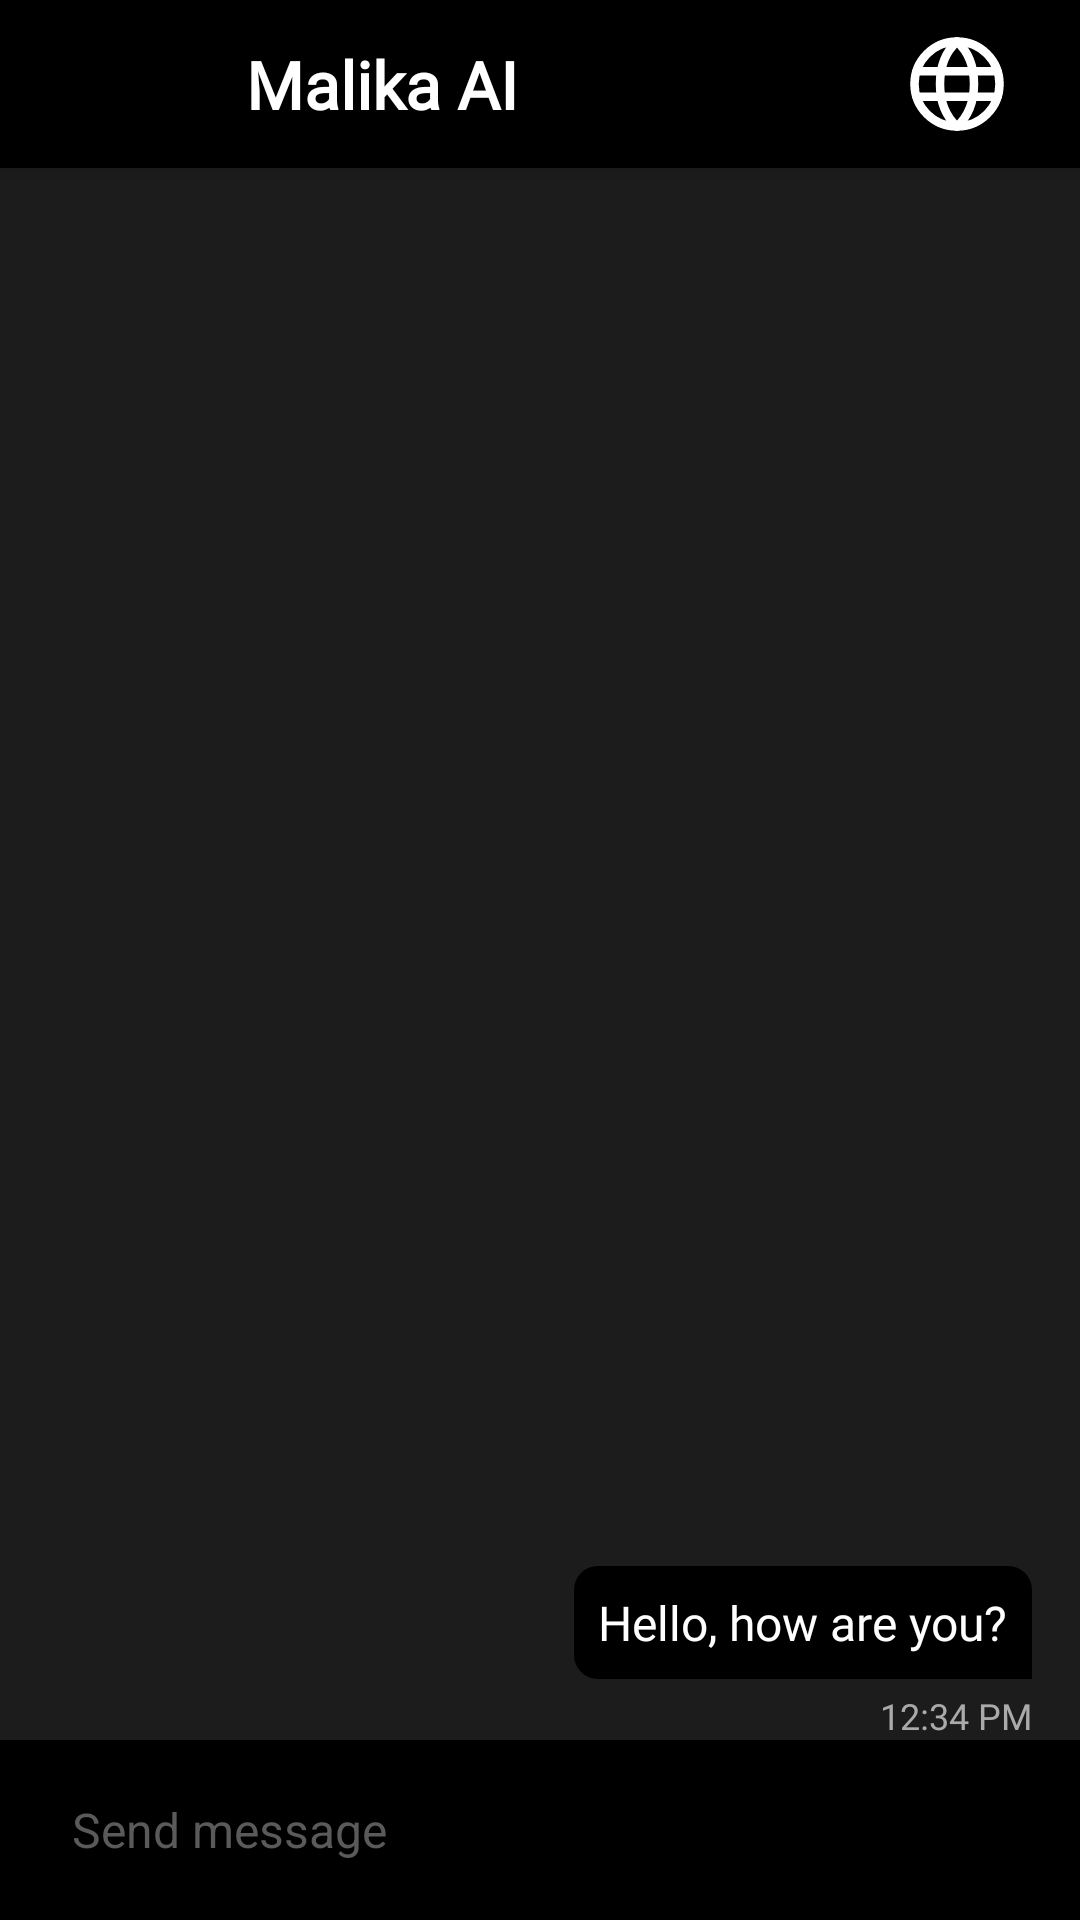

Icons on this 1080 x 1920 Android screen, each with the point to tap as [x,y]:
language: [957,84]
